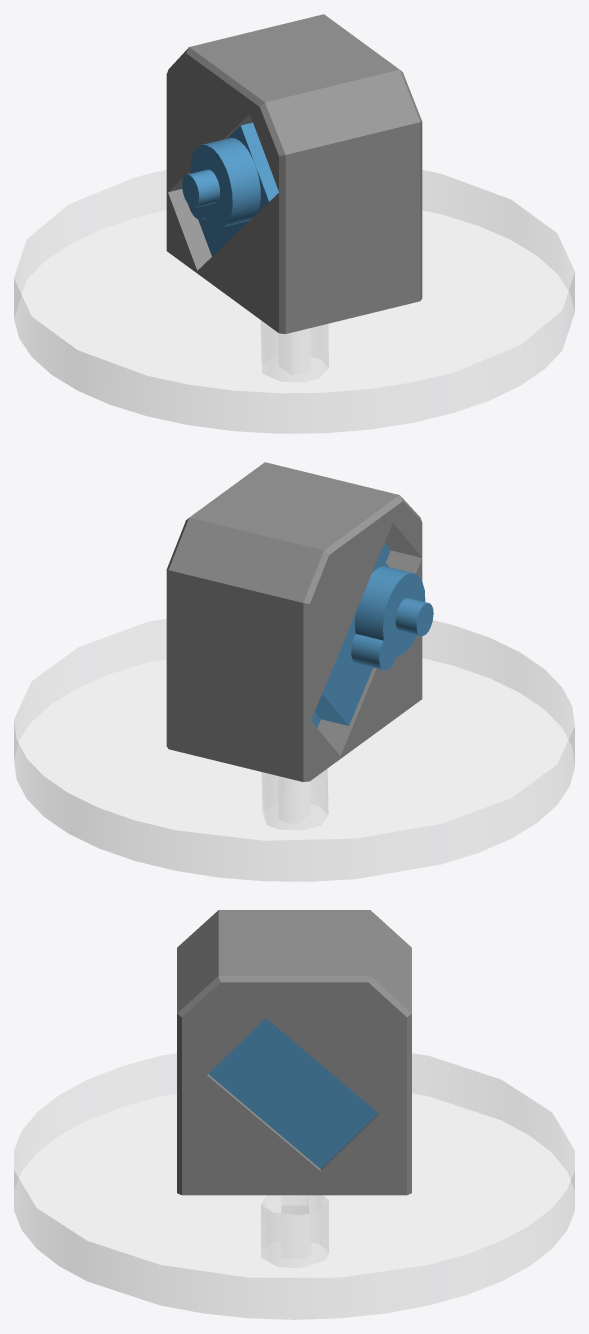
The model's file is turntable.glb.
The picture shows the model from 3 angles, top to bottom: view 1: azimuth 30°, elevation 25°; view 2: azimuth 150°, elevation 25°; view 3: azimuth 270°, elevation 25°; orthographic projection.
Visible parts, largest first — view 1: turntable; view 2: turntable; view 3: turntable.
Part boxes in pixels (<box>): turntable: <box>14,14,574,433</box>; turntable: <box>14,462,574,881</box>; turntable: <box>14,910,574,1319</box>.
Bounding box in the file's own units: 0.0815 × 0.0497 × 0.0812.
